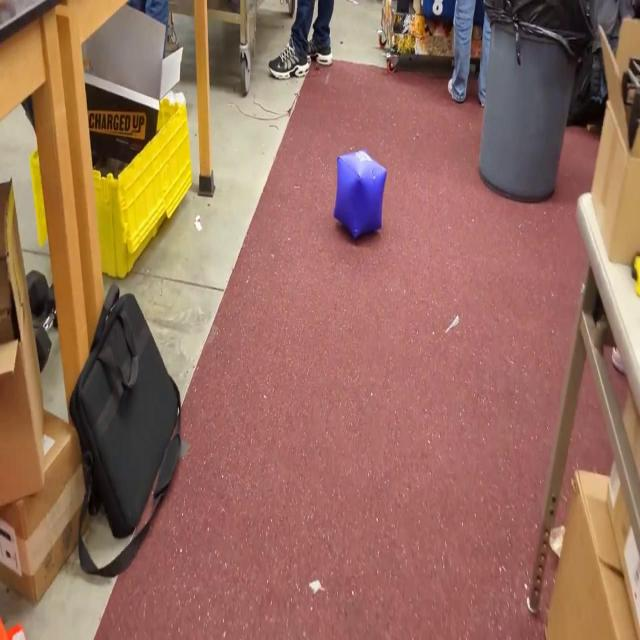frc_cube: (334, 143, 387, 245)
